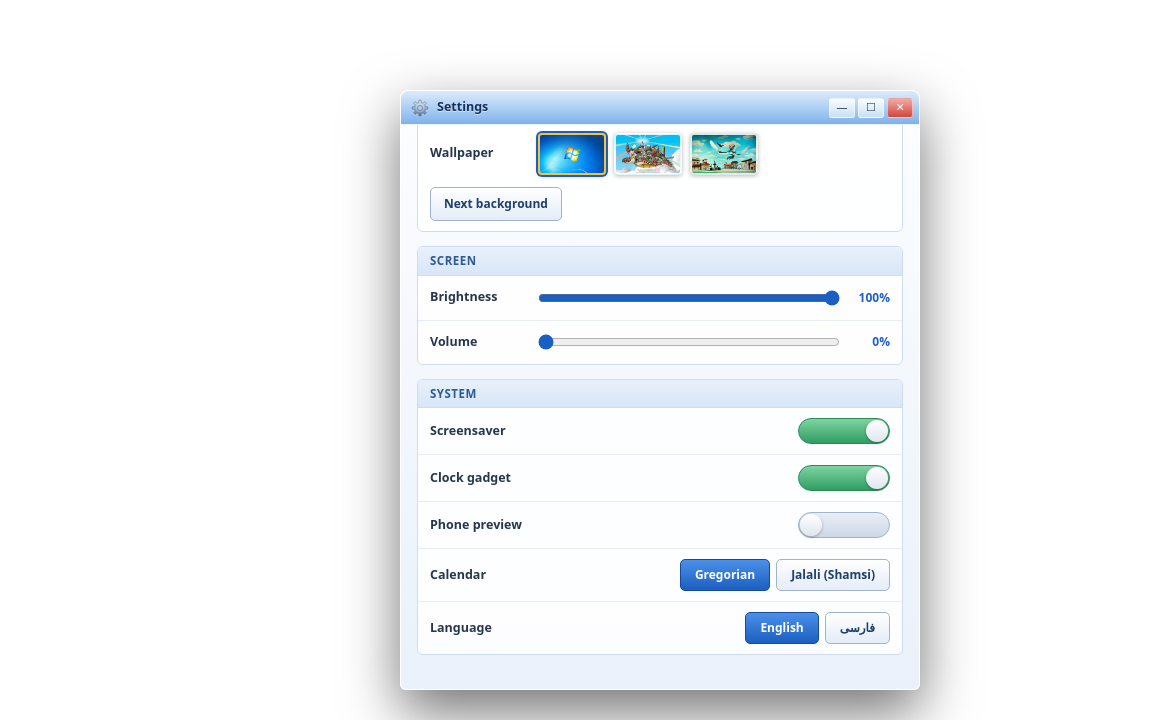
Scenario: SettingsWindow › language › switches the interface to Persian: text goes RTL but the page layout is not mirrored
(page scrolled)
Click the button with test id "settings-lang-fa": [857, 628] box [825,612,890,644]
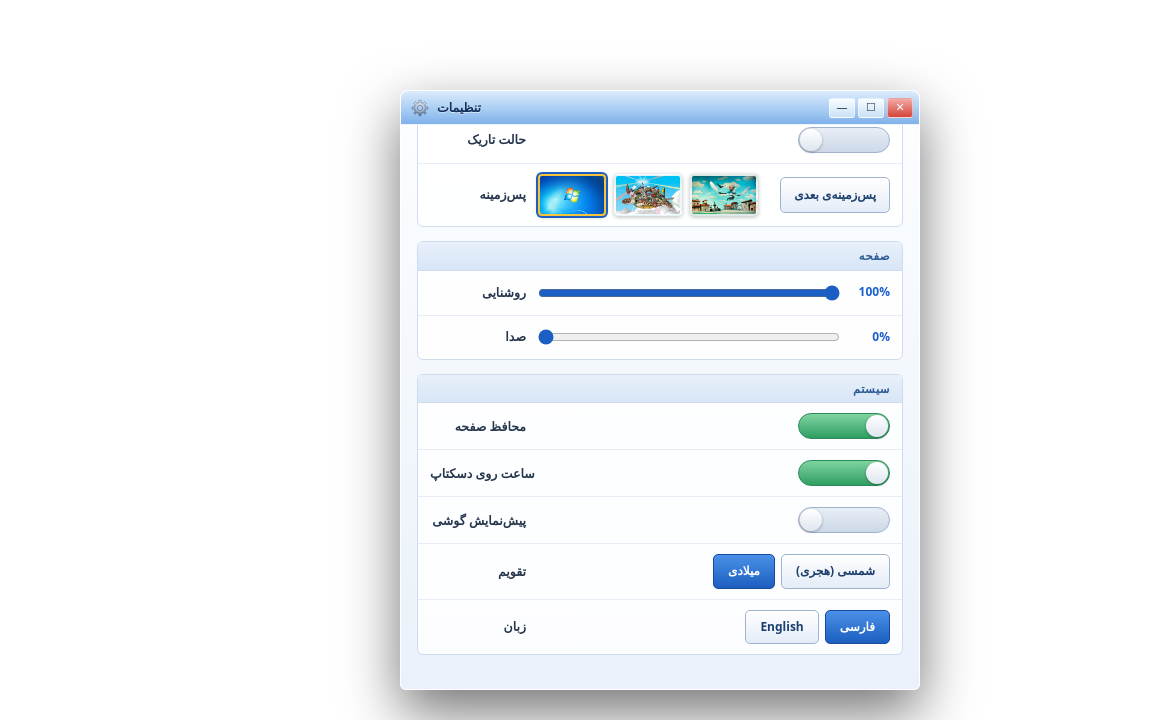
Expected: the element with test id "settings-window" shows "روشنایی", [482,284,526,301]
